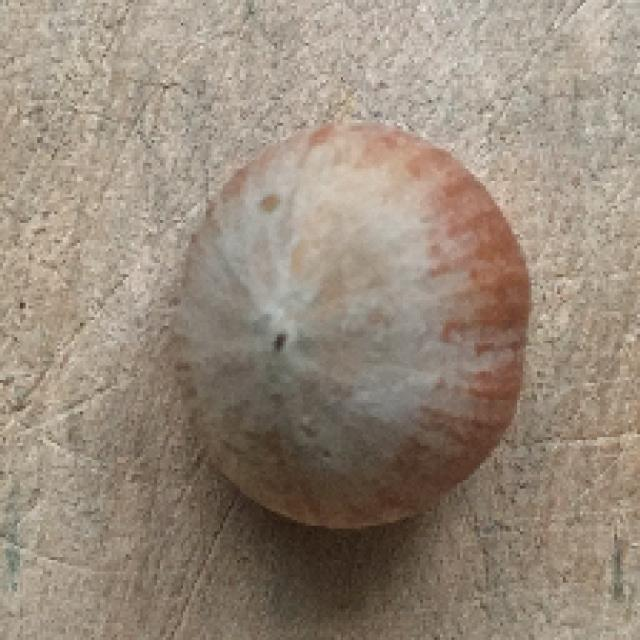QualityHazelnut: (185, 123, 524, 534)
